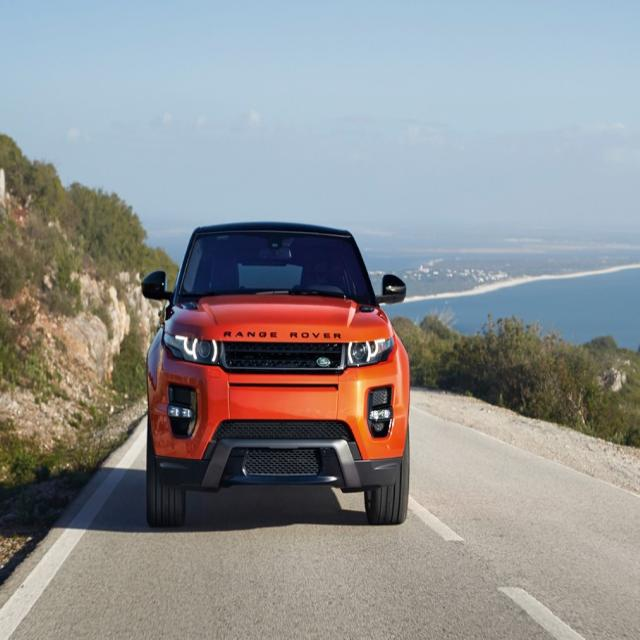front_bumper: (147, 398, 411, 490)
front_glass: (176, 233, 375, 304)
front_left_side_light: (344, 332, 396, 368)
front_left_side_mirror: (376, 272, 407, 306)
front_right_side_light: (161, 330, 222, 368)
front_right_side_mirror: (140, 269, 173, 305)
wheel: (364, 428, 410, 520), (147, 453, 186, 526)
